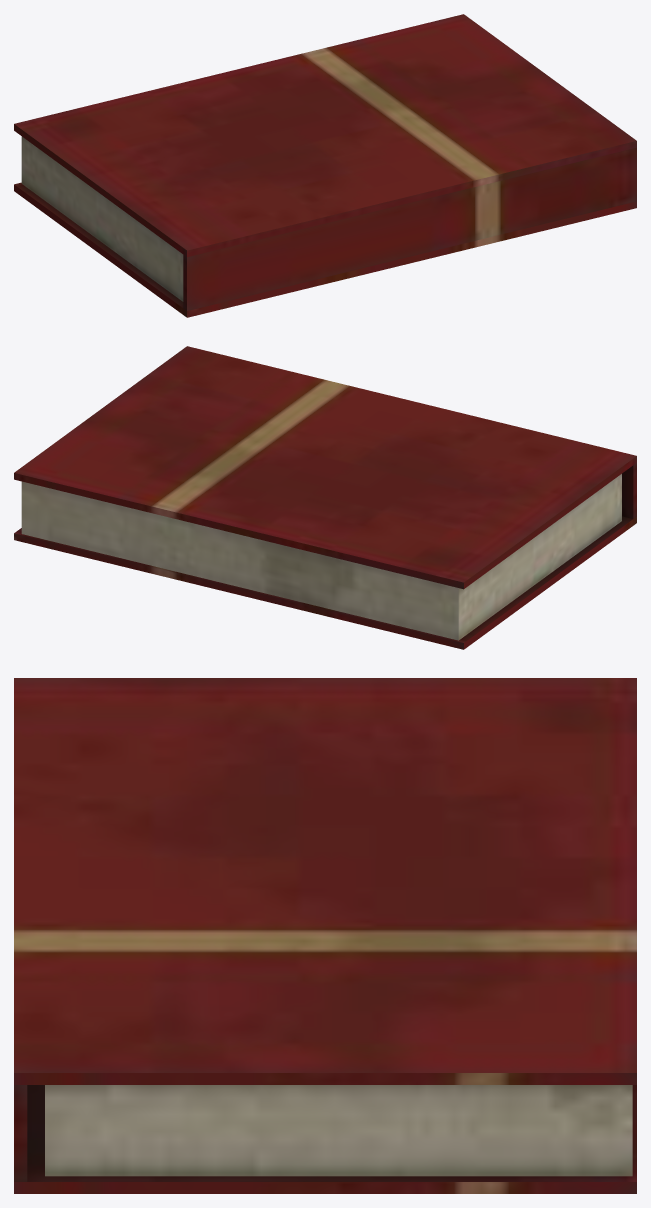
File: book_closed_lod1_web.glb
The picture shows the model from 3 angles, top to bottom: view 1: azimuth 30°, elevation 25°; view 2: azimuth 150°, elevation 25°; view 3: azimuth 270°, elevation 25°; orthographic projection. The views are drawn at different scales.
Visible parts, largest first — view 1: BookClosed_Body; view 2: BookClosed_Body; view 3: BookClosed_Body.
Part boxes in pixels (left/top/right/bottom): BookClosed_Body: left=14, top=14, right=636, bottom=317; BookClosed_Body: left=14, top=346, right=636, bottom=649; BookClosed_Body: left=14, top=678, right=636, bottom=1193.
Size of the model in its own units: 0.21 by 0.03 by 0.14.
1 material, 1 textured.
